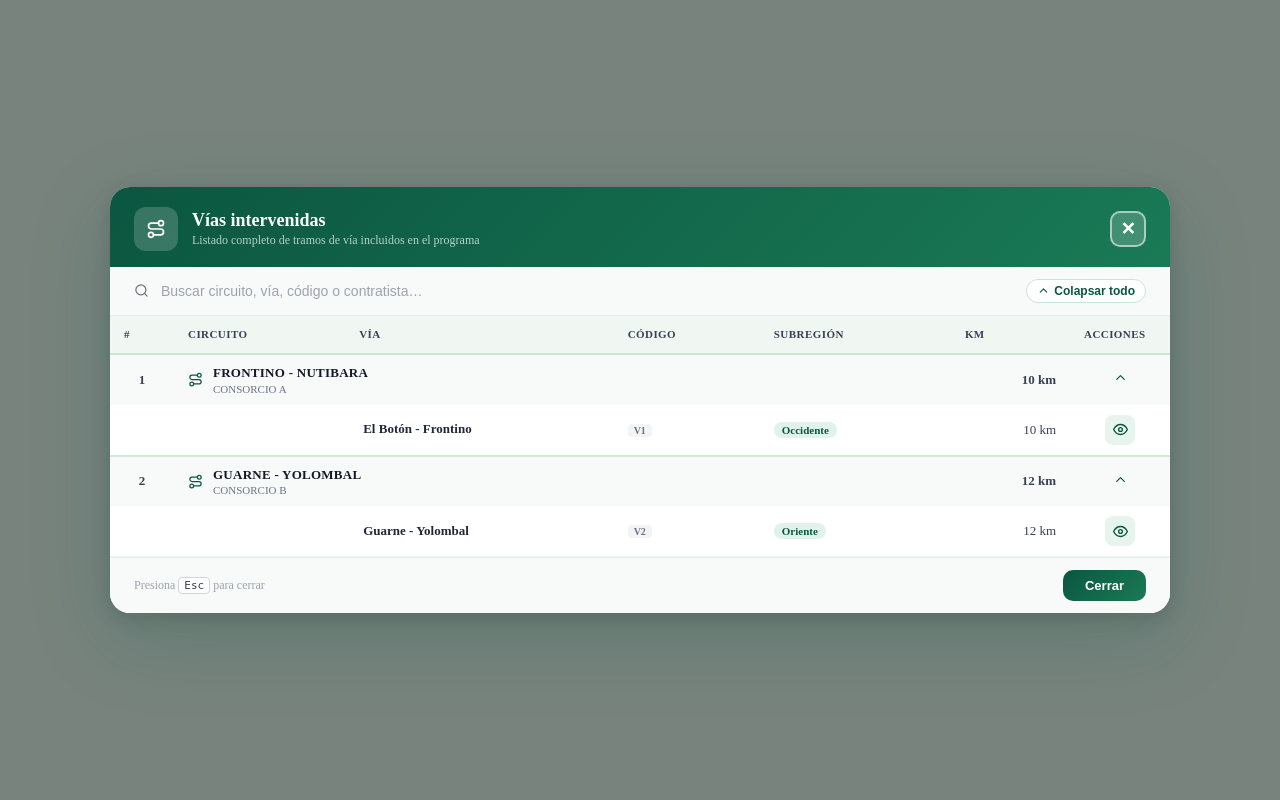
StatsDetailModal — vista "vias" › filtra resultados según la búsqueda
In the field with class "search-input": (588, 291) [159, 282, 1016, 300], type "guarne"
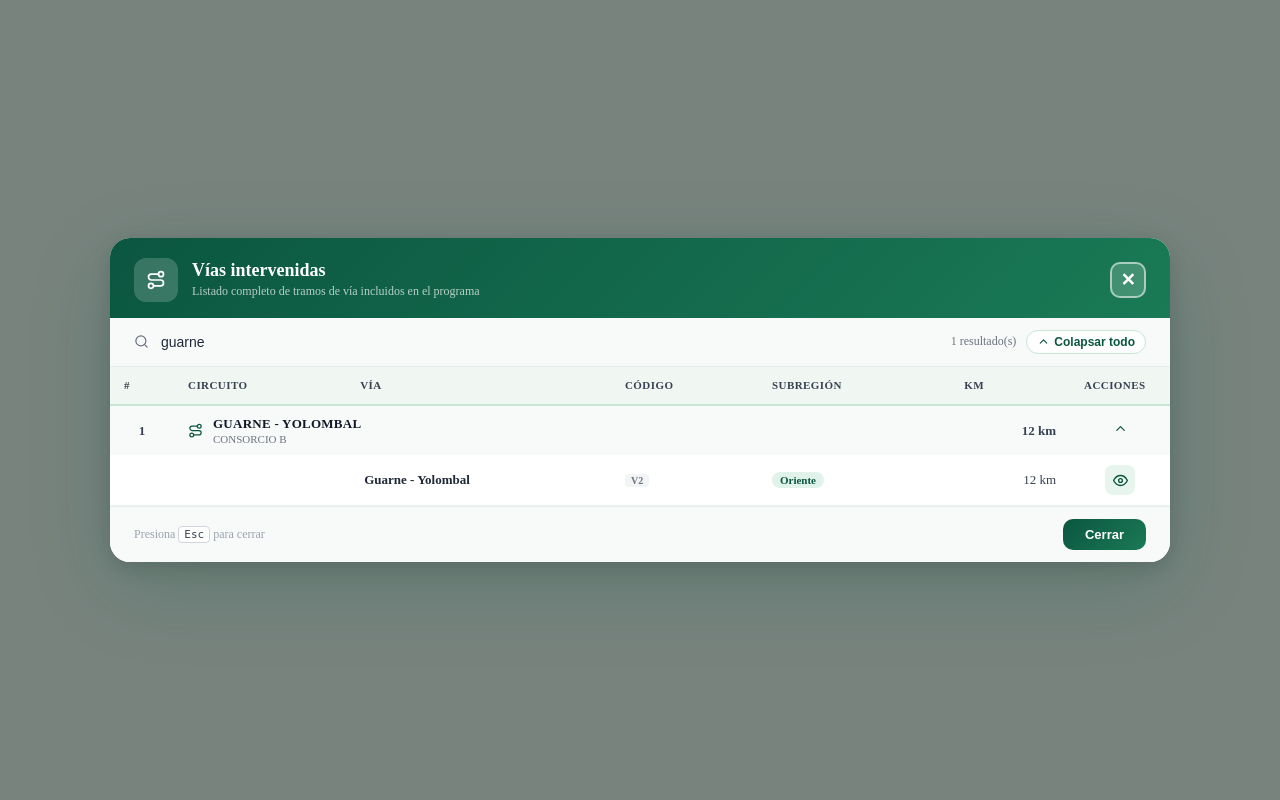
Result: the number of rows with class "circuit-header-row" is 1 at [110, 405, 1170, 455]
Result: the text with class "search-count" shows "1 resultado" at [951, 334, 1016, 348]
